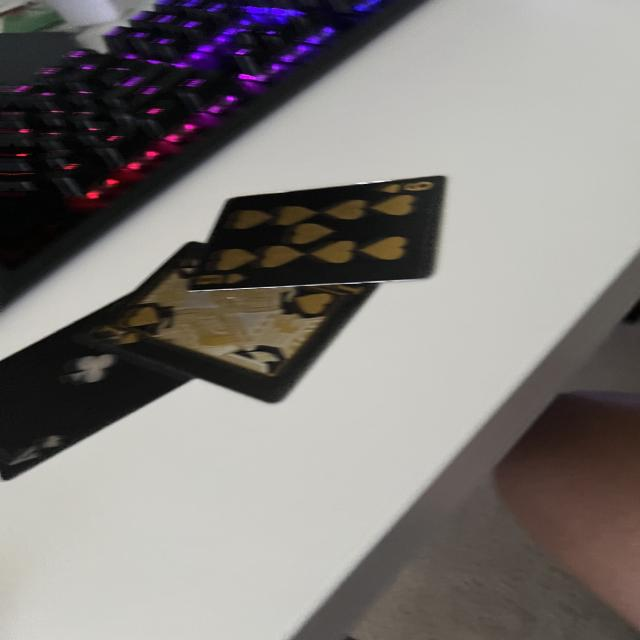9H: (379, 180, 441, 196), (196, 275, 247, 285)
AC: (5, 431, 67, 467)
JH: (98, 323, 144, 346)
